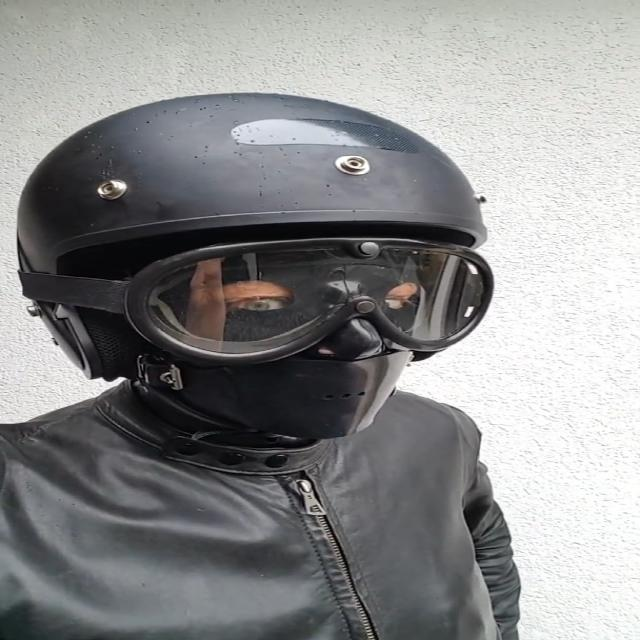Helmet_Wearer: (0, 68, 519, 448)
Jacket_Wearer: (0, 339, 605, 640)
Person: (0, 72, 559, 639)
